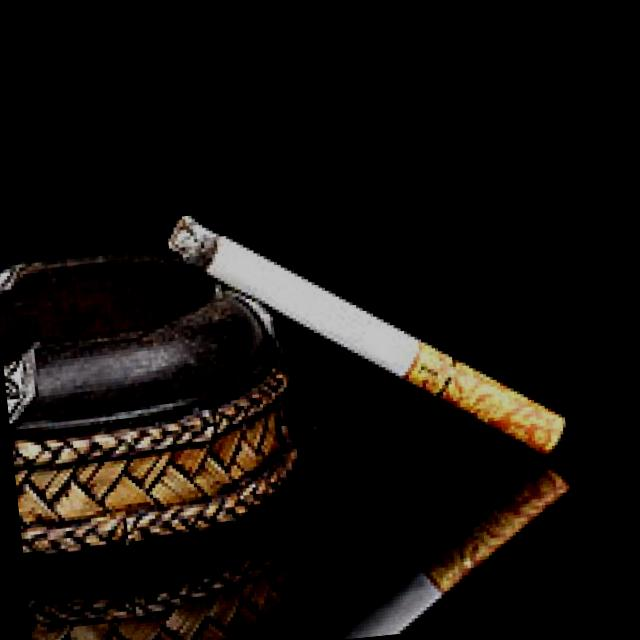cigarette: (158, 168, 572, 502)
